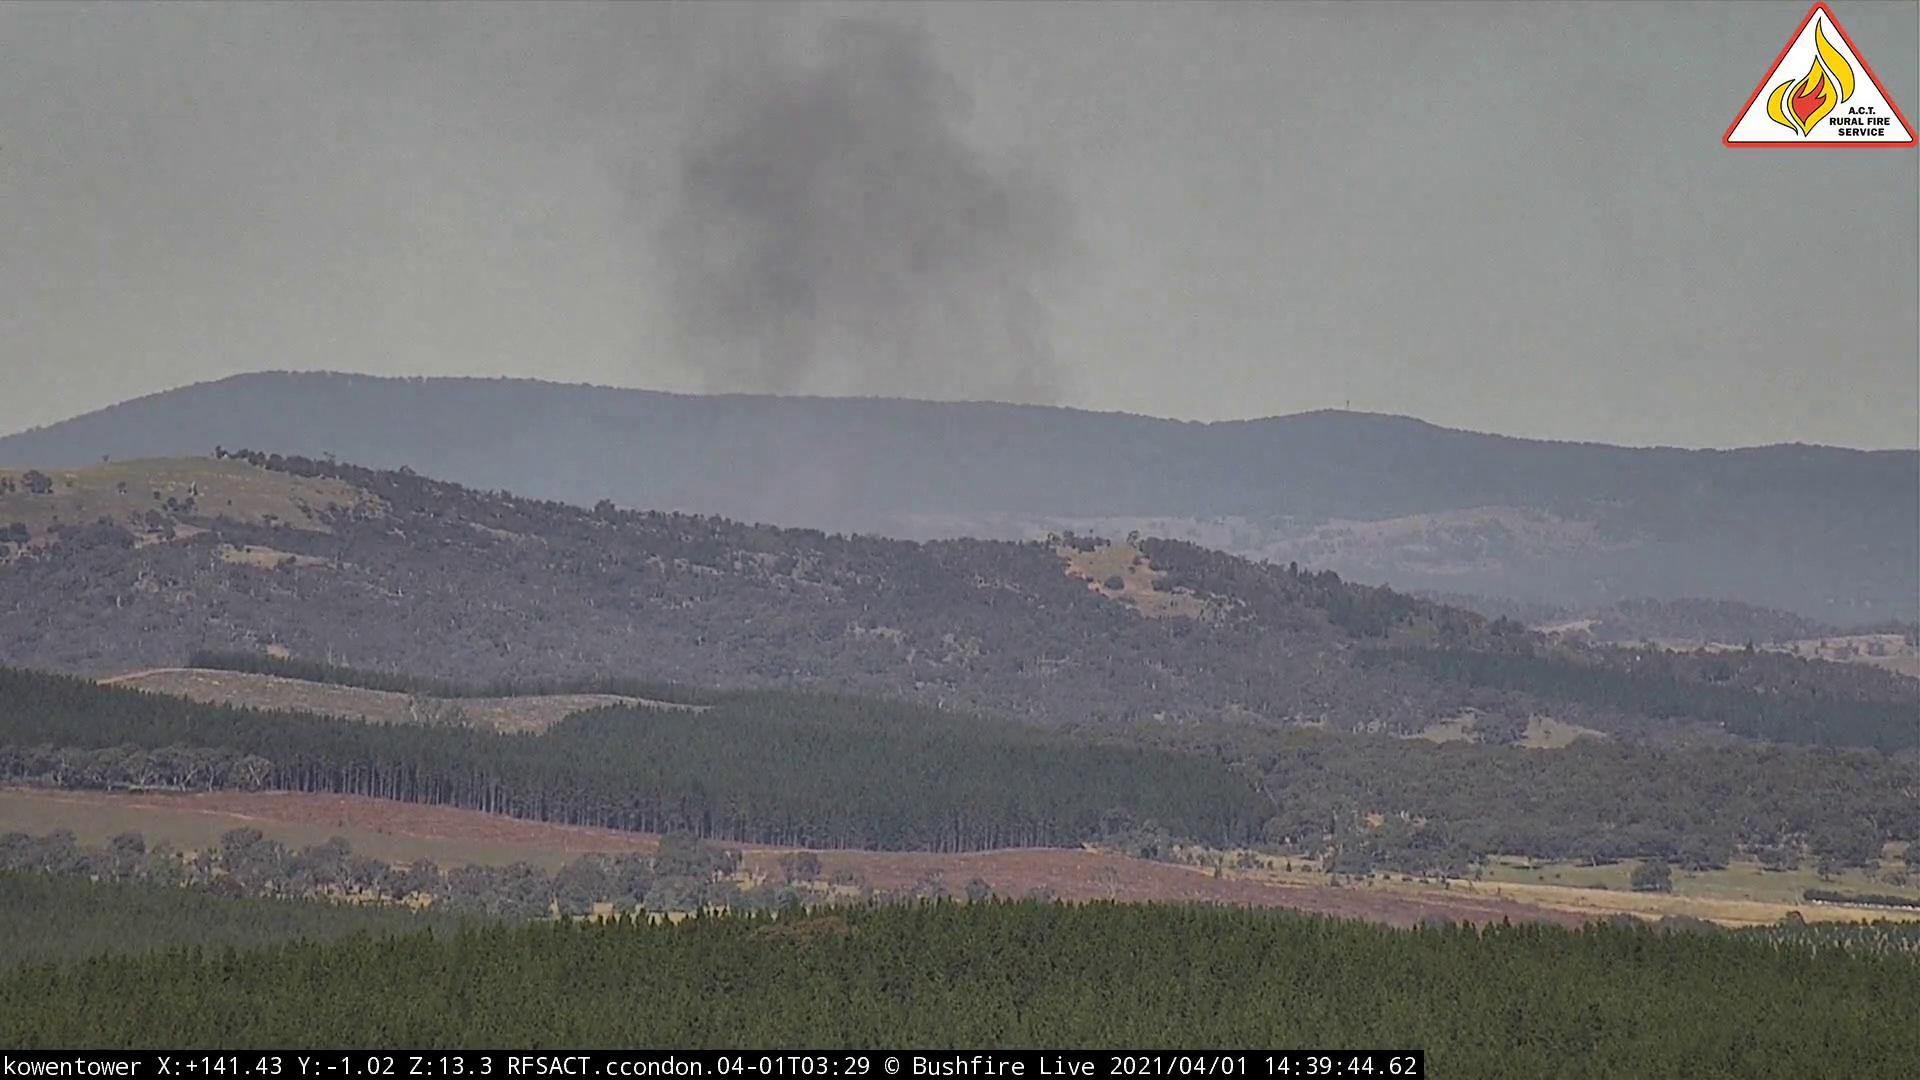Smoke: (582, 3, 1114, 471)
